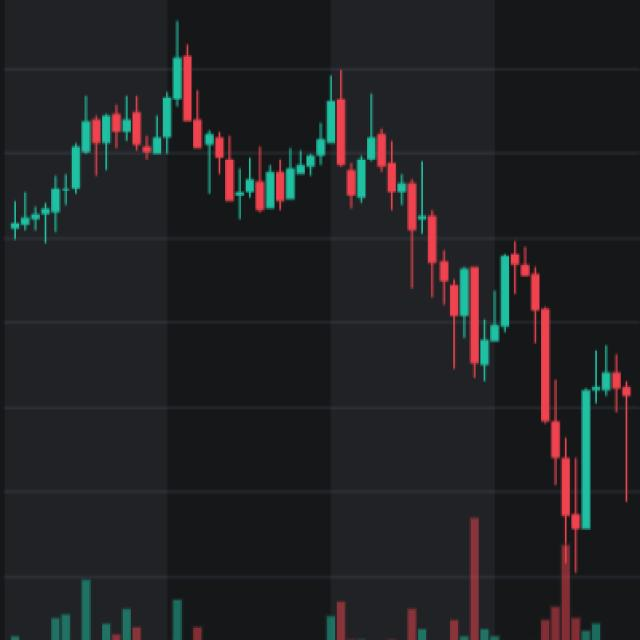Support-breakout: (266, 90, 582, 550)
